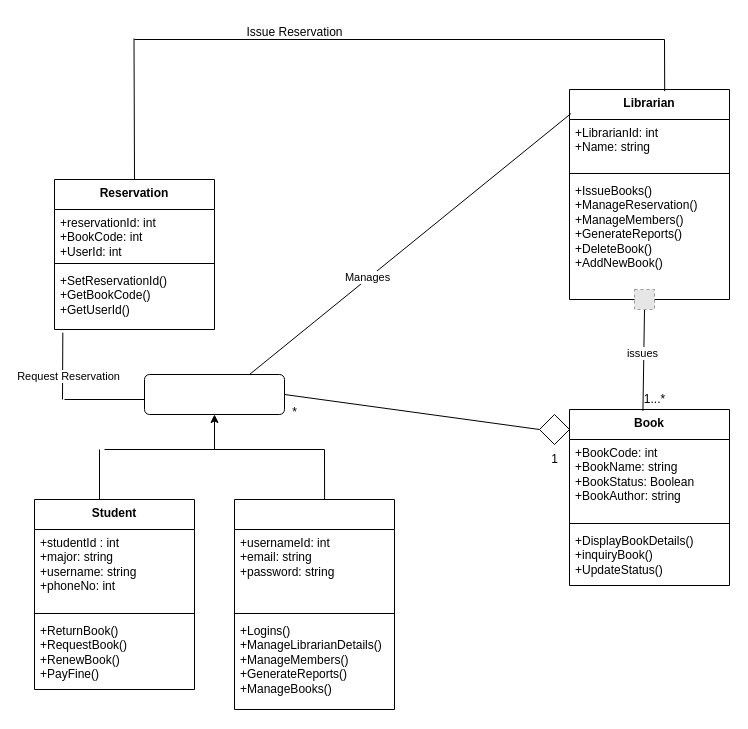
Some shapes in this 748 by 729 pixel diagram are drawn without their labels. Grey dashed boxes stand in for pictures. Here are the shapes that lost their labels. From the top down, the box of each, then its label:
(144, 374, 284, 414): USER
(234, 498, 394, 710): Admin
